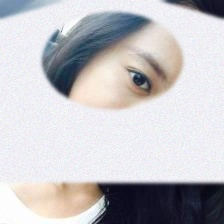Mukena: (0, 0, 224, 182)
